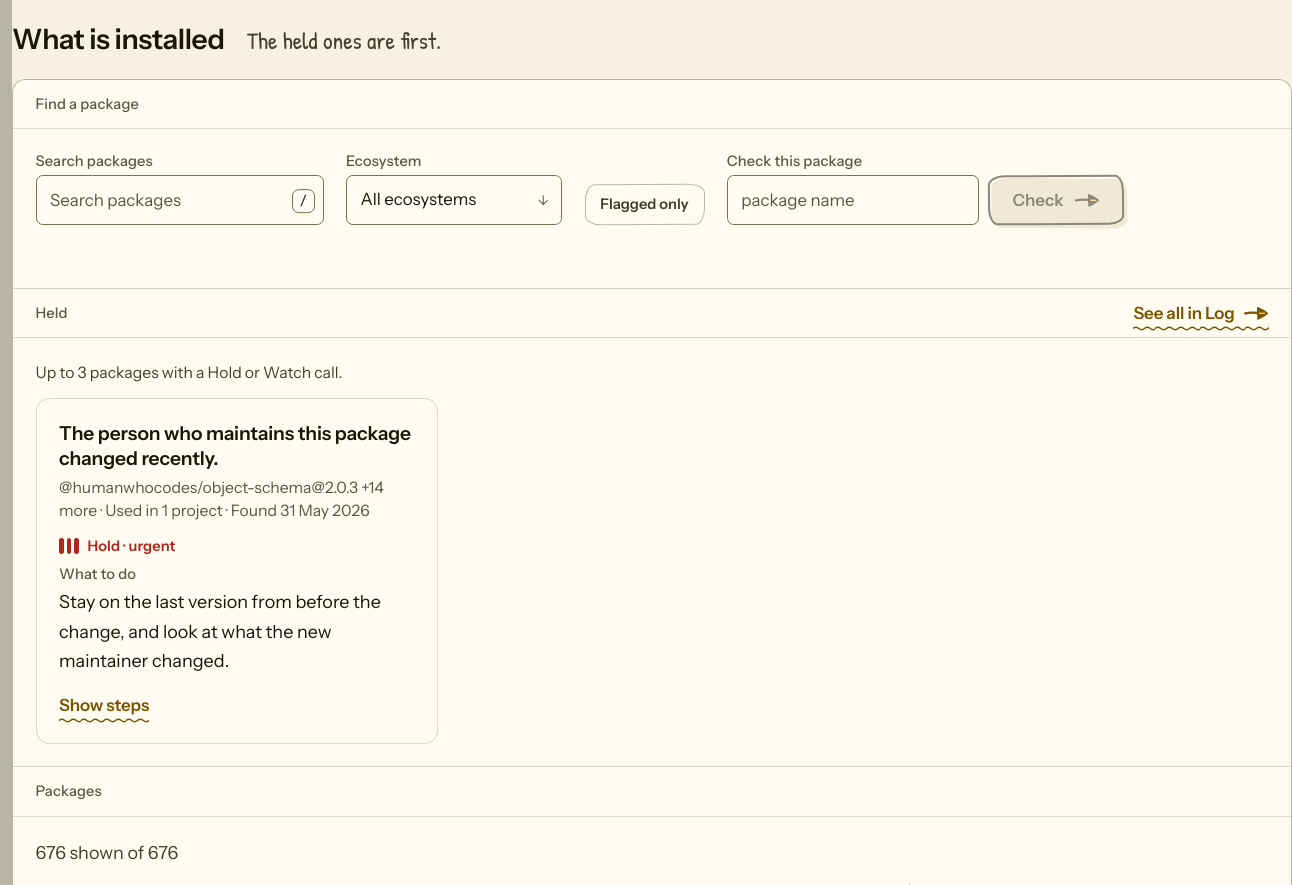
Test case: Installed (live fixtures: 1,000 raw rows, 676 real ones) › checks a typed name with a plain OK result
Expected: the text "676 shown of 676" is shown, 36,842 -> 178,864
In the field labelled "Check this package": (853,200) 727,175 -> 979,225, type "tidy"
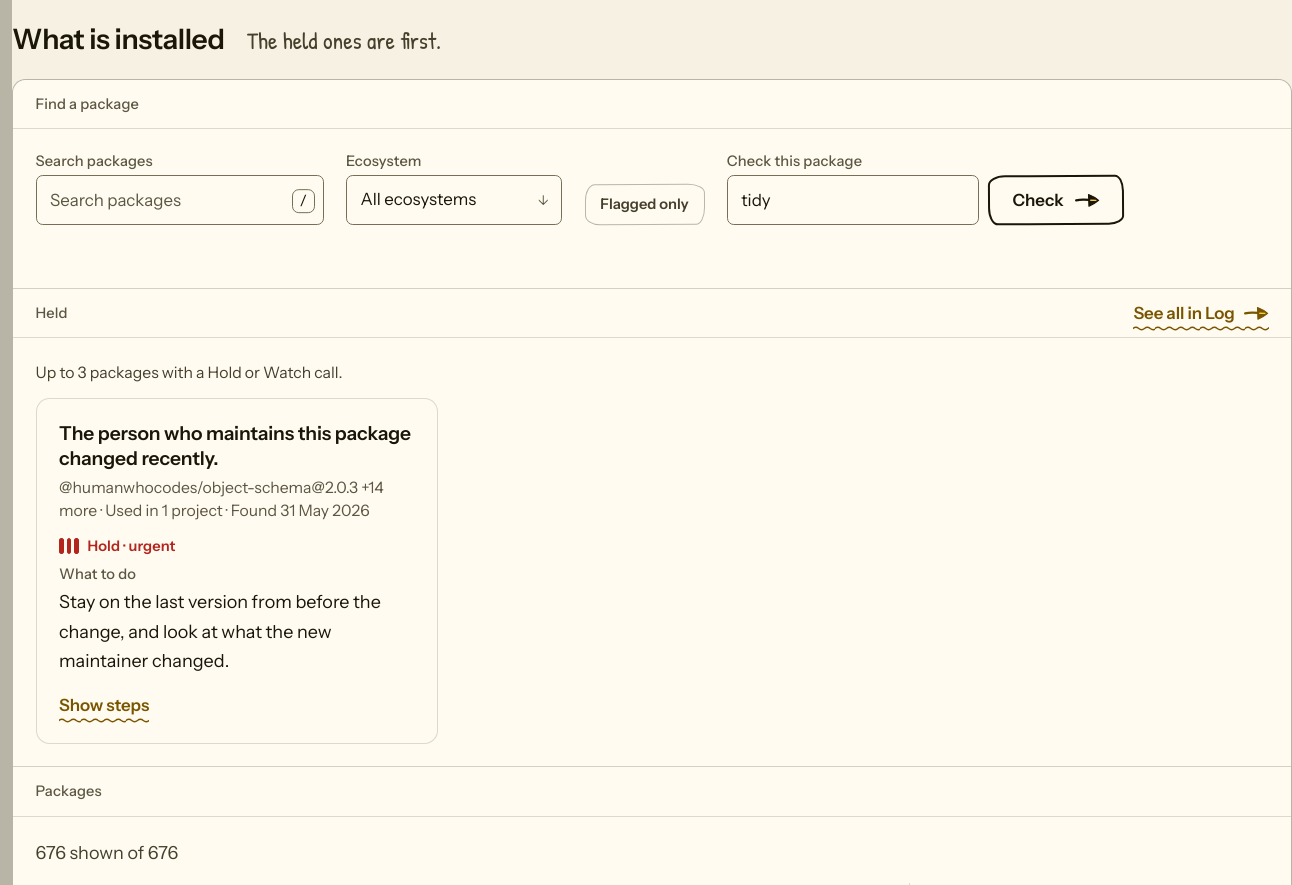
Click the button "Check": (1056,200) 988,175 -> 1124,225
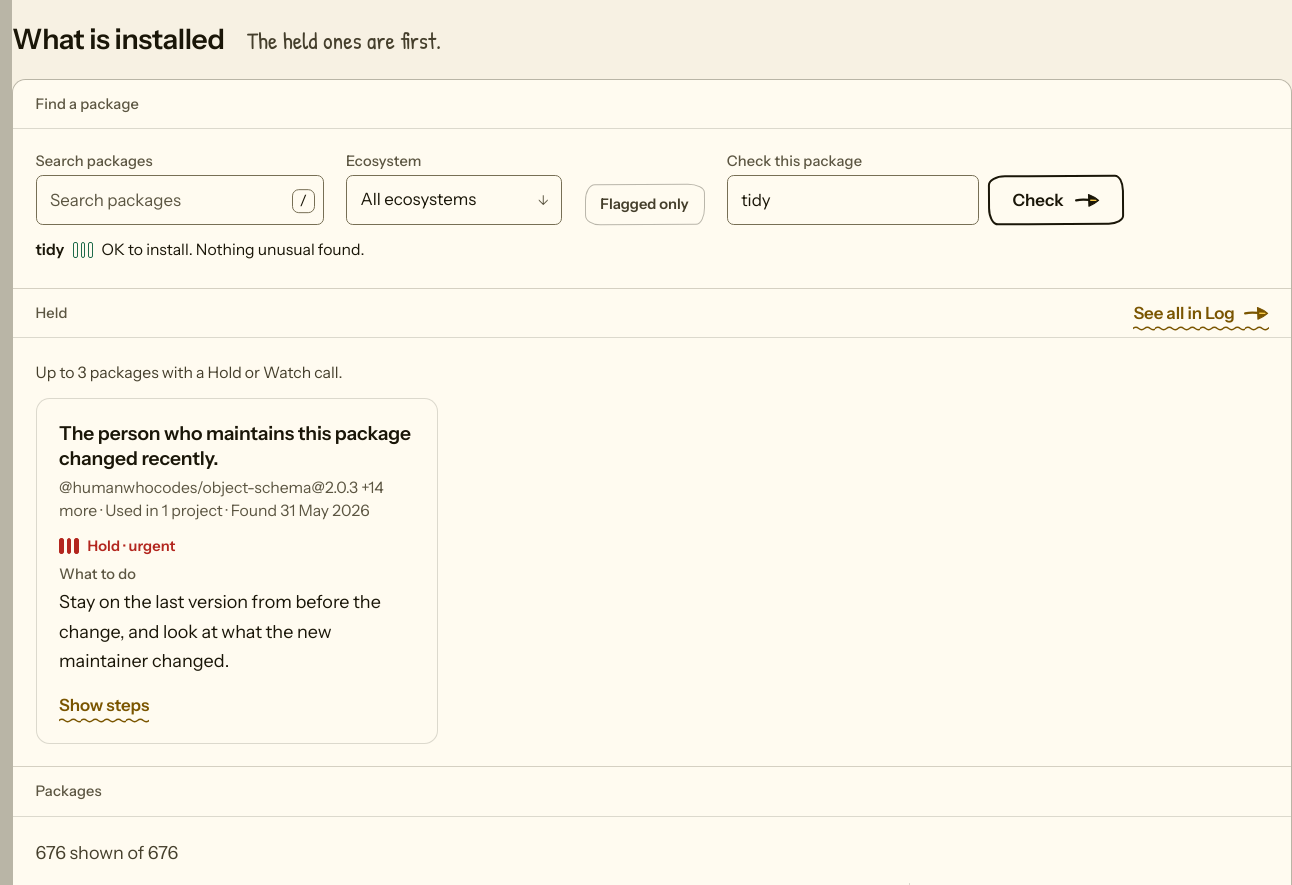
Expected: the text "OK to install. Nothing unusual found." is shown, 102,238 -> 365,262
